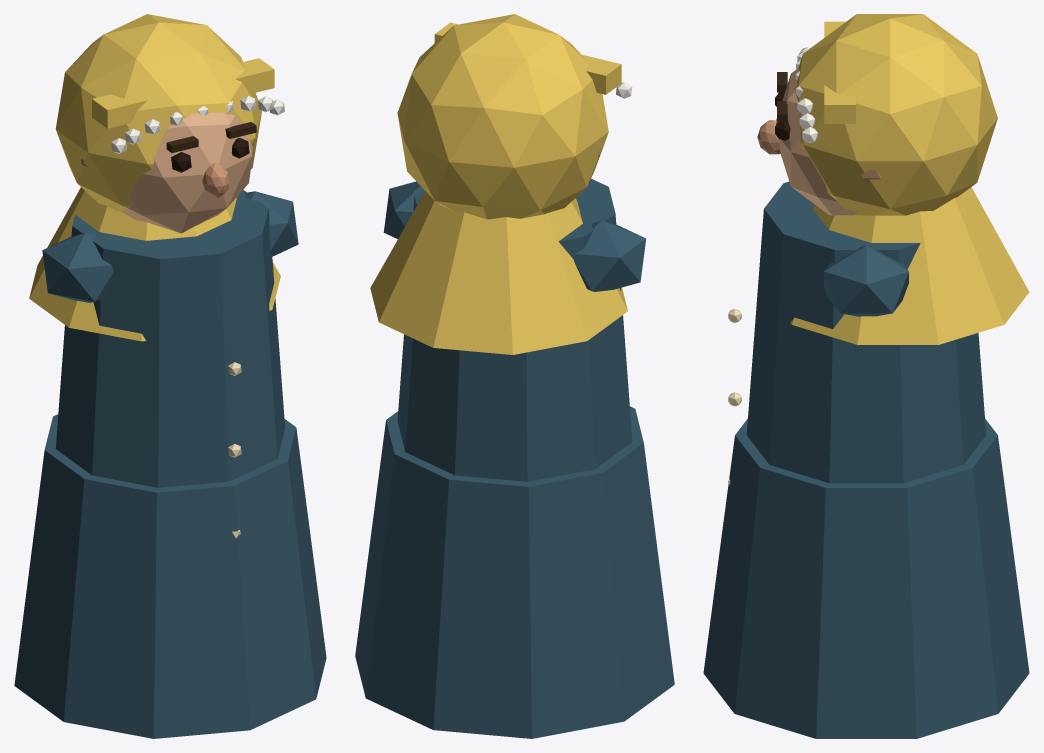
File: insan_k3_govde.glb
3 renders of one model, left to right at view 1: azimuth 30°, elevation 25°; view 2: azimuth 150°, elevation 25°; view 3: azimuth 270°, elevation 25°, orthographic. The views are drawn at different scales.
Visible parts, largest first — view 1: Cone; view 2: Cone; view 3: Cone.
Part boxes in pixels (bbox=[...]): Cone: bbox=[14, 14, 326, 738]; Cone: bbox=[355, 14, 674, 738]; Cone: bbox=[703, 14, 1029, 738].
Bounding box in the file's own units: 0.1179 × 0.2748 × 0.124.
